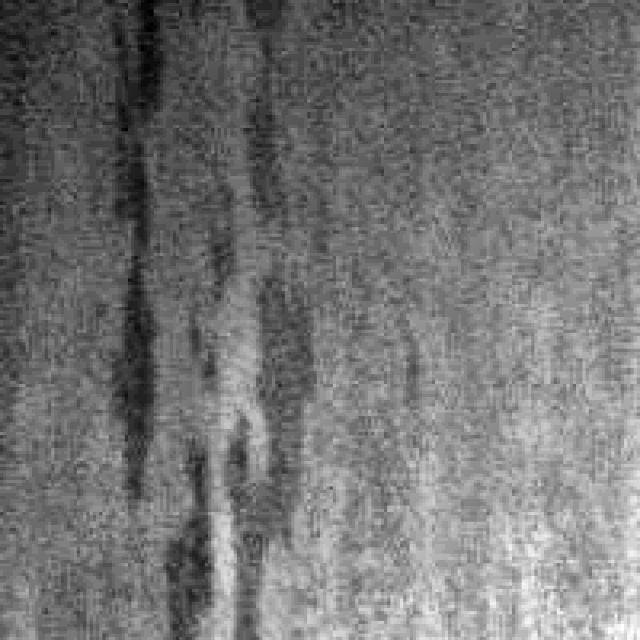Patches: (185, 26, 308, 624), (83, 0, 170, 531)
